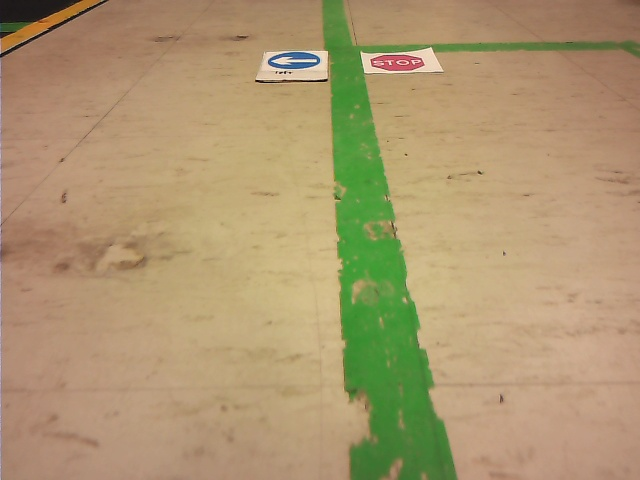STOP: (370, 55, 424, 70)
TURN LEFT: (268, 52, 320, 68)
